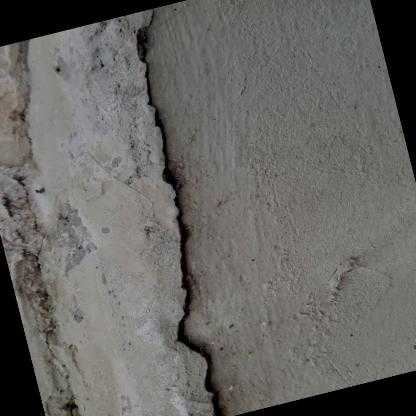crack: (137, 7, 225, 416)
